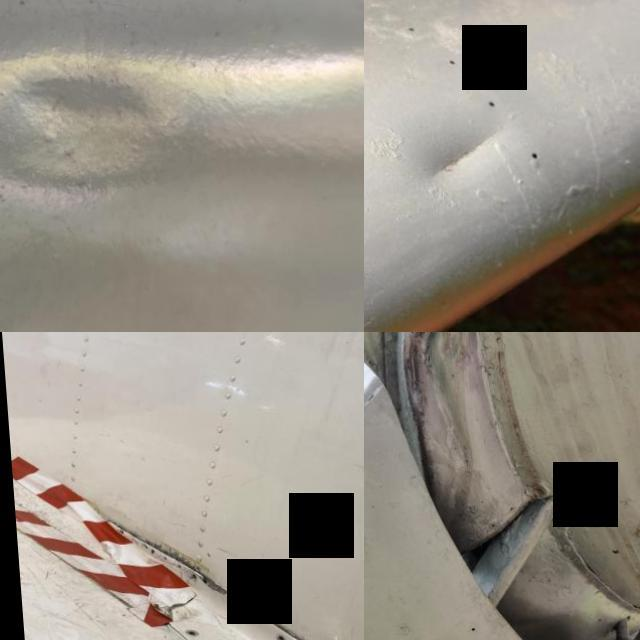Crack: (189, 573, 226, 604)
Dent: (0, 0, 235, 274), (378, 332, 503, 507), (383, 90, 526, 216)
Missing_Fastener: (178, 628, 194, 638), (224, 604, 236, 616), (265, 634, 283, 640)
